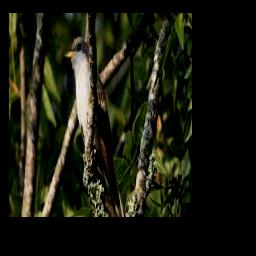Cuckoo: (64, 37, 125, 217)
